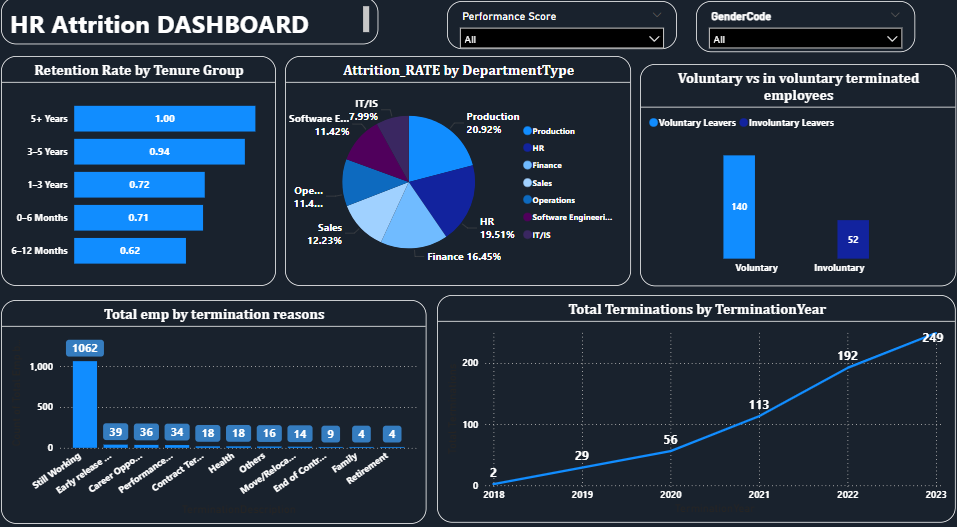

What the dashboard file says about the page in this screenshot:
{"tool":"powerbi","page":{"name":"HR attrition","canvas":[1280,720],"ordinal":3},"visuals":[{"type":"pieChart","fields":{"Category":["HR.DepartmentType"],"Y":["HR.Attrition_RATE"]},"box":[384.4,96.5,454.1,300.3],"z":0},{"type":"clusteredBarChart","fields":{"Category":["HR.Tenure Group"],"Y":["HR.Retention Rate"]},"box":[12.8,89.9,359.6,301.1],"z":1000},{"type":"lineClusteredColumnComboChart","title":"Voluntary vs in voluntary terminated employees","fields":{"Category":["HR.TerminationCategory"],"Y":["HR.Voluntary Leavers","HR.Involuntary Leavers"]},"box":[849.6,100.8,413.7,290.6],"z":2000},{"type":"lineChart","fields":{"Category":["HR.TerminationYear"],"Y":["HR.Total Terminations"]},"box":[246.1,405.8,810.3,298.5],"z":4000},{"type":"textbox","box":[13.1,13.1,493.5,61.5],"z":5000},{"type":"slicer","fields":{"Values":["HR.Performance Score"]},"box":[611.4,12.5,300.3,73.3],"z":5001},{"type":"slicer","fields":{"Values":["HR.GenderCode"]},"box":[922.5,16.1,287.8,75.1],"z":5002}]}

Visuals, with their boxes in screenshot pixels (x1, y1, x2, y2), scaled from the page's 1280x720 canvas onto the 957x527 screenshot:
pieChart - HR.DepartmentType x HR.Attrition_RATE: bbox=(287, 71, 627, 290)
clusteredBarChart - HR.Tenure Group x HR.Retention Rate: bbox=(10, 66, 278, 286)
"Voluntary vs in voluntary terminated employees" lineClusteredColumnComboChart: bbox=(635, 74, 945, 286)
lineChart - HR.TerminationYear x HR.Total Terminations: bbox=(184, 297, 790, 516)
textbox: bbox=(10, 10, 379, 55)
slicer - HR.Performance Score: bbox=(457, 9, 682, 63)
slicer - HR.GenderCode: bbox=(690, 12, 905, 67)
